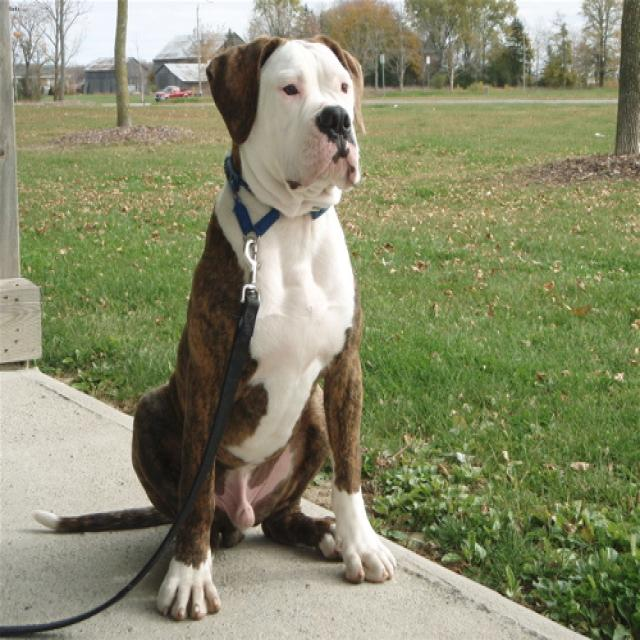dog-american_bulldog: (26, 25, 410, 637)
